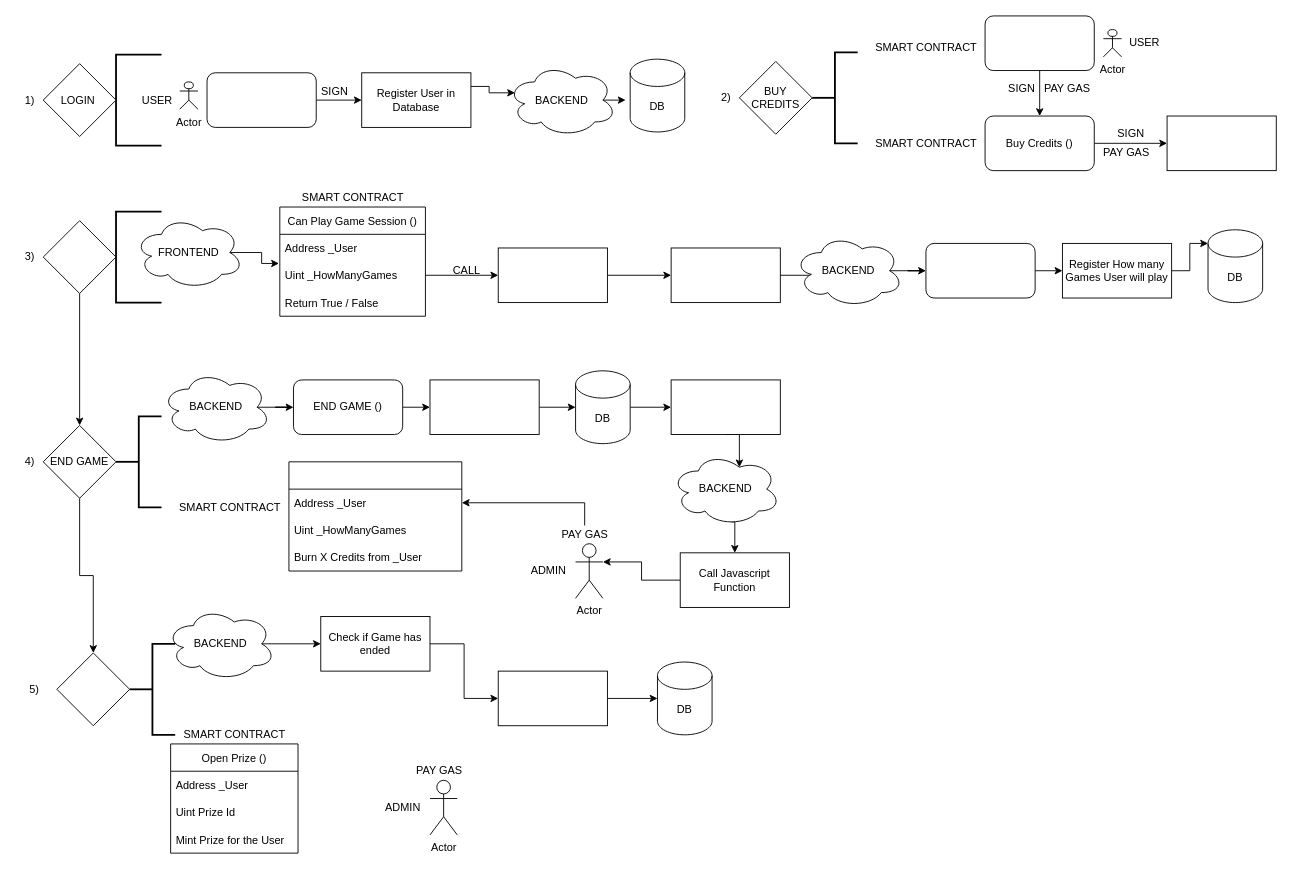
This 1292x870 diagram has some shape labels left out. The shapes that lost their labels are listed below. From the top down, each one's box as (x1, y1, x2, y2) in pixels, then its label:
(984, 15, 1094, 71): Approve Magic
(206, 72, 316, 127): Sign Login ()
(1166, 115, 1276, 171): Issue ERC20 Credits
(42, 220, 116, 293): PLAY GAME
(497, 247, 607, 303): Verify if user has more than X credit
(670, 247, 780, 303): If true allow to play game
(925, 243, 1035, 298): PLAY GAME ()
(429, 379, 539, 435): Register how many games user has played
(670, 379, 780, 435): If User Has 0 Games Left to Play
(288, 461, 462, 571): END GAME SESSION ()
(56, 652, 130, 726): OPEN PRIZE
(497, 670, 607, 726): Register Random NFT Won and Lock it to that winning User
